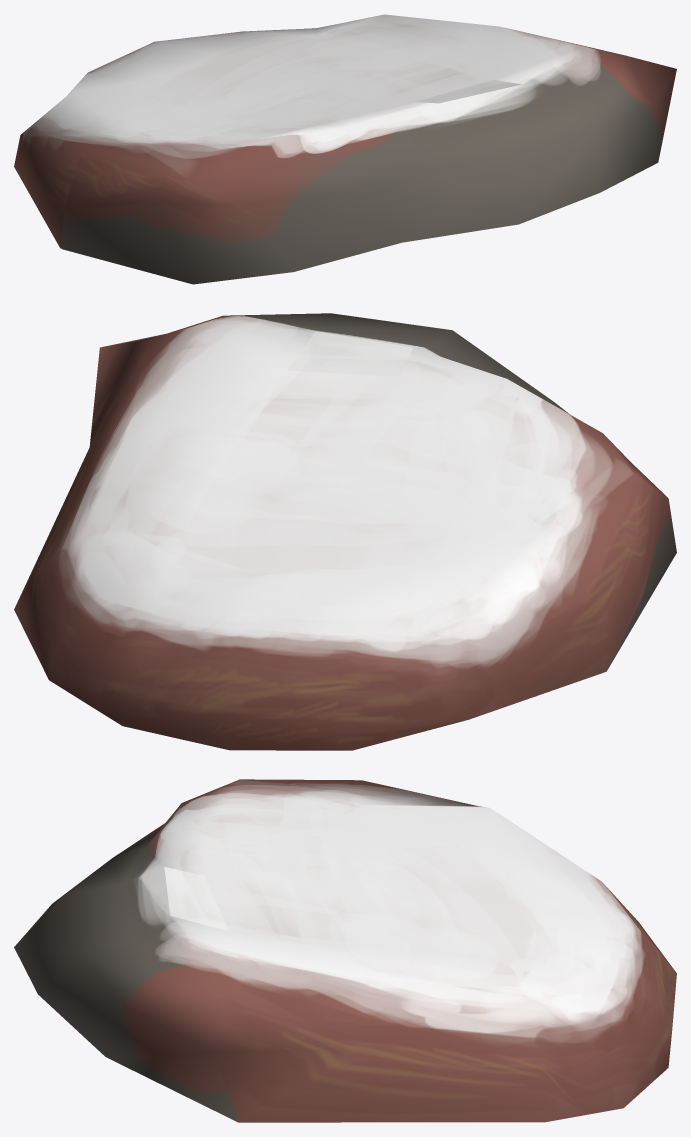
The model's file is ExtrudedGround.fbx.
The picture shows the model from 3 angles, top to bottom: view 1: azimuth 30°, elevation 25°; view 2: azimuth 150°, elevation 25°; view 3: azimuth 270°, elevation 25°; orthographic projection. The views are drawn at different scales.
Parts seen in each view (by area): view 1: LargeGroundLump; view 2: LargeGroundLump; view 3: LargeGroundLump.
Boxes of the visible parts, <box> form: LargeGroundLump: <box>14,14,676,284</box>; LargeGroundLump: <box>14,313,676,750</box>; LargeGroundLump: <box>14,779,676,1122</box>.
Bounding box in the file's own units: 3097 × 943 × 3030.
